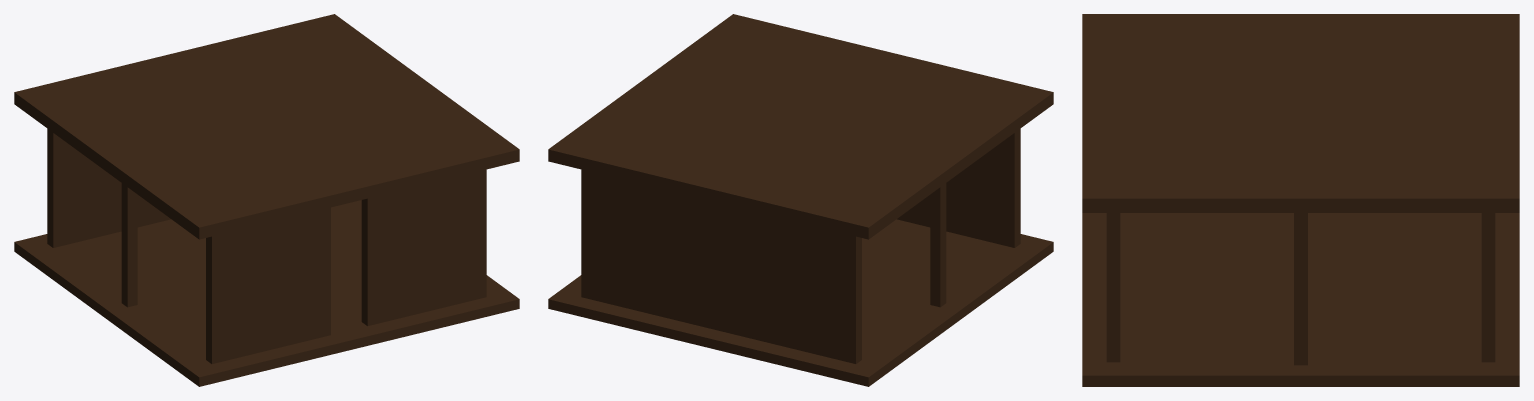
Rendered from witch_hut.dae.
The picture shows the model from 3 angles, left to right: view 1: azimuth 30°, elevation 25°; view 2: azimuth 150°, elevation 25°; view 3: azimuth 270°, elevation 25°; orthographic projection. The views are drawn at different scales.
Visible parts, largest first — view 1: witch_hut; view 2: witch_hut; view 3: witch_hut.
Boxes of the visible parts, <box> form: witch_hut: <box>14,14,519,386</box>; witch_hut: <box>548,14,1053,386</box>; witch_hut: <box>1082,14,1519,386</box>.
Size of the model in its own units: 7 by 3.33 by 7.
